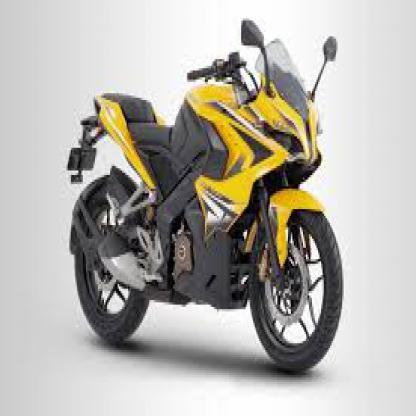Motorcycle: (59, 6, 354, 382)
